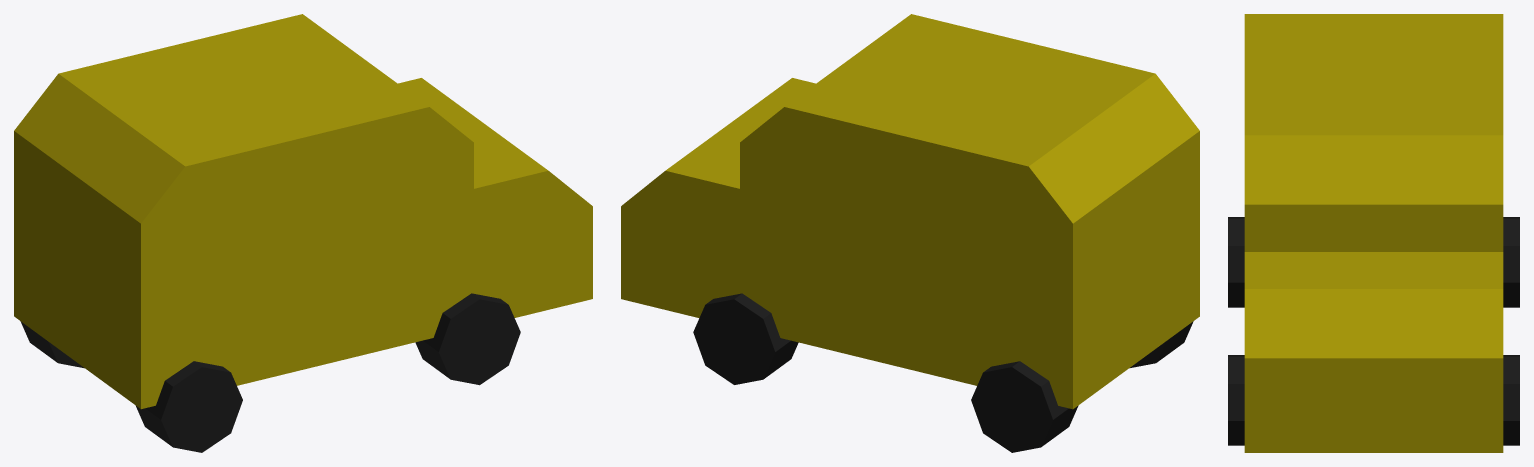
Rendered from Supermarket_Car2.fbx.
The picture shows the model from 3 angles, left to right: view 1: azimuth 30°, elevation 25°; view 2: azimuth 150°, elevation 25°; view 3: azimuth 270°, elevation 25°; orthographic projection.
Visible parts, largest first — view 1: SuperMarket_Car2; view 2: SuperMarket_Car2; view 3: SuperMarket_Car2.
Boxes of the visible parts, box(x1,y1,x2,y2) form: SuperMarket_Car2: box(14, 14, 592, 452); SuperMarket_Car2: box(621, 14, 1199, 452); SuperMarket_Car2: box(1228, 14, 1519, 452).
Bounding box in the file's own units: 23.85 × 14.25 × 13.09.
